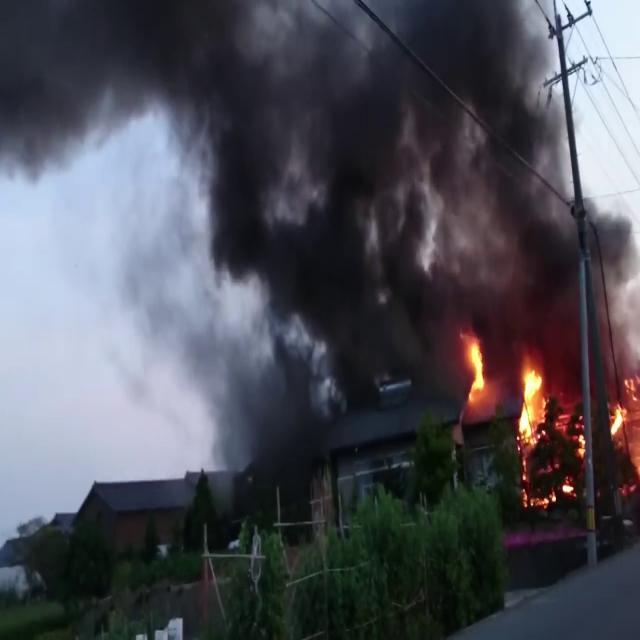Fire: (516, 368, 548, 446), (468, 340, 484, 400), (522, 488, 558, 511), (610, 404, 627, 436), (623, 370, 640, 400), (556, 412, 570, 436), (538, 462, 560, 476), (577, 425, 586, 456), (619, 481, 637, 496), (521, 452, 527, 483), (561, 481, 575, 494)
Smoke: (212, 2, 568, 324), (0, 0, 251, 181), (206, 322, 324, 482), (127, 196, 214, 384), (322, 322, 468, 392), (586, 205, 639, 372), (549, 201, 581, 396), (484, 326, 548, 368)
